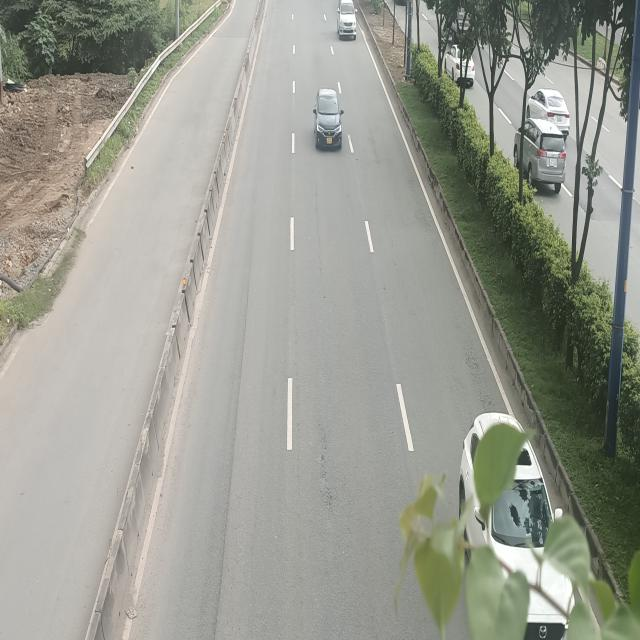car: (314, 91, 344, 152), (338, 0, 359, 40)
